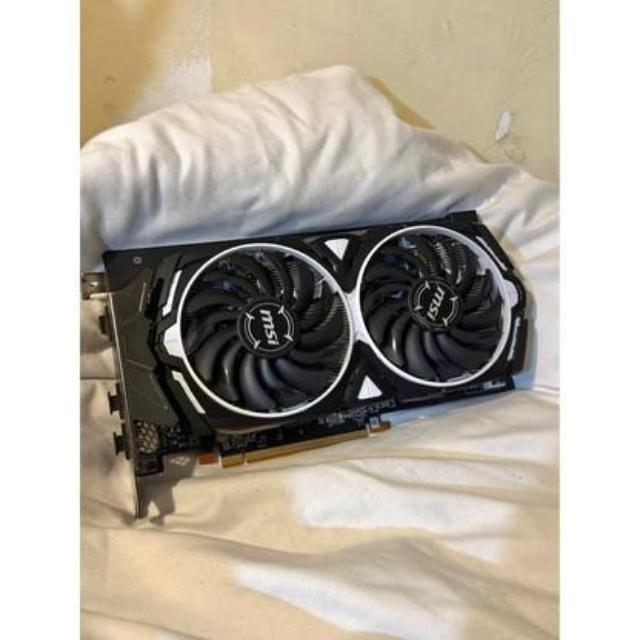GPU: (106, 212, 526, 472)
